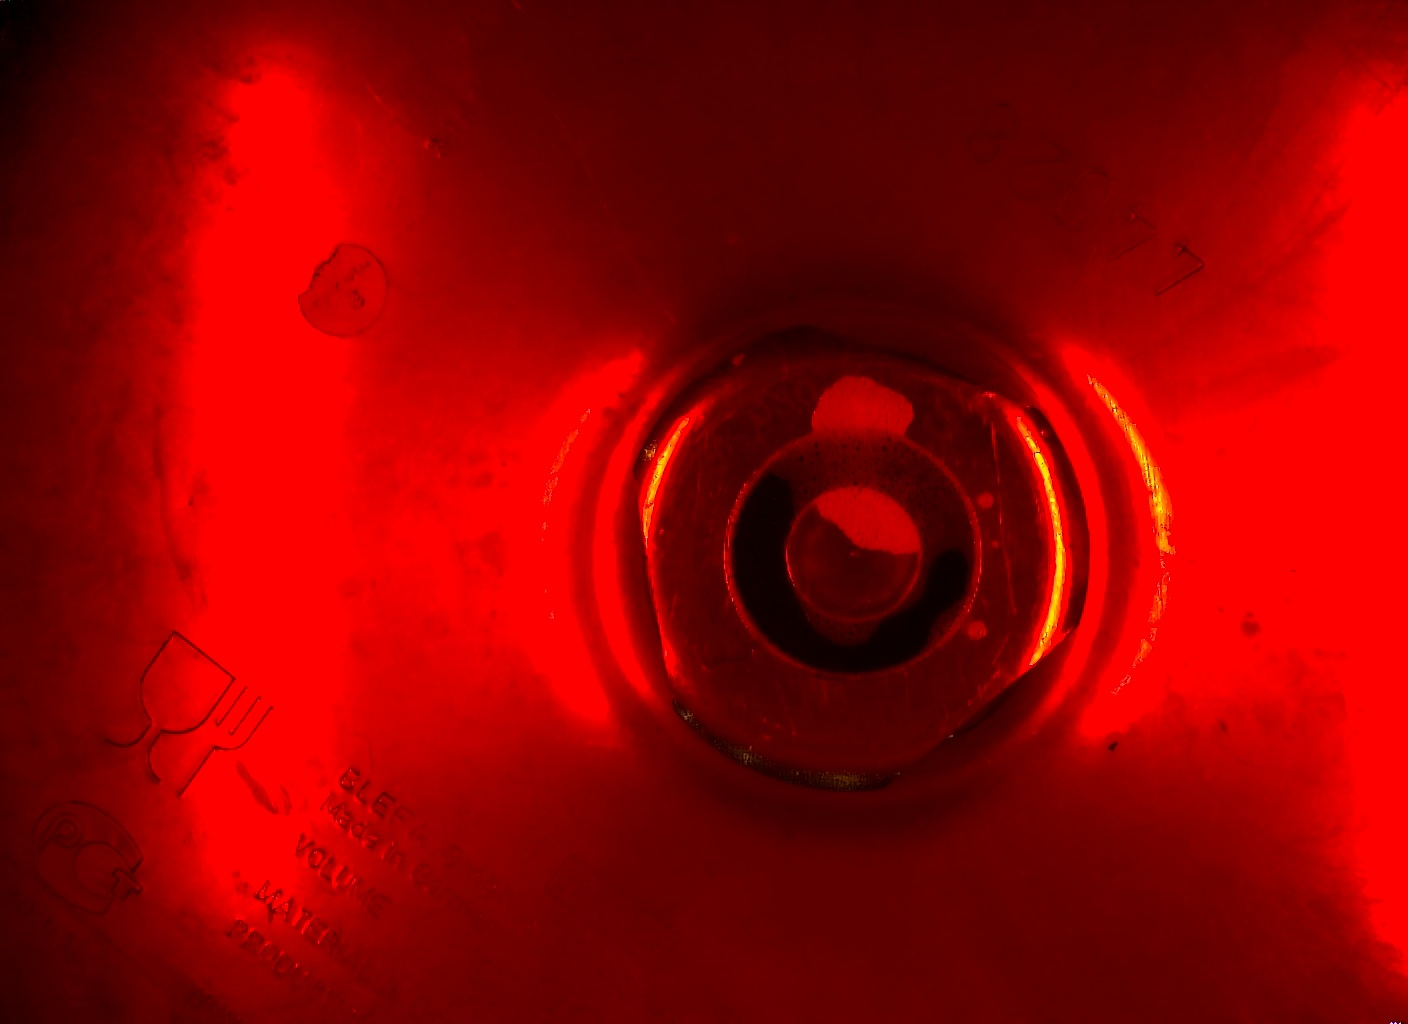pena: (772, 370, 1006, 562), (908, 595, 999, 675), (790, 595, 890, 658)
